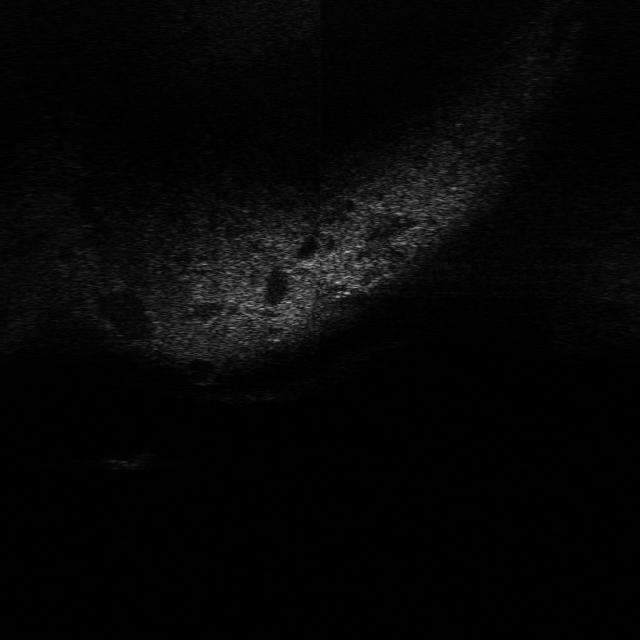ball: (257, 315, 294, 345)
cube: (98, 447, 153, 474)
